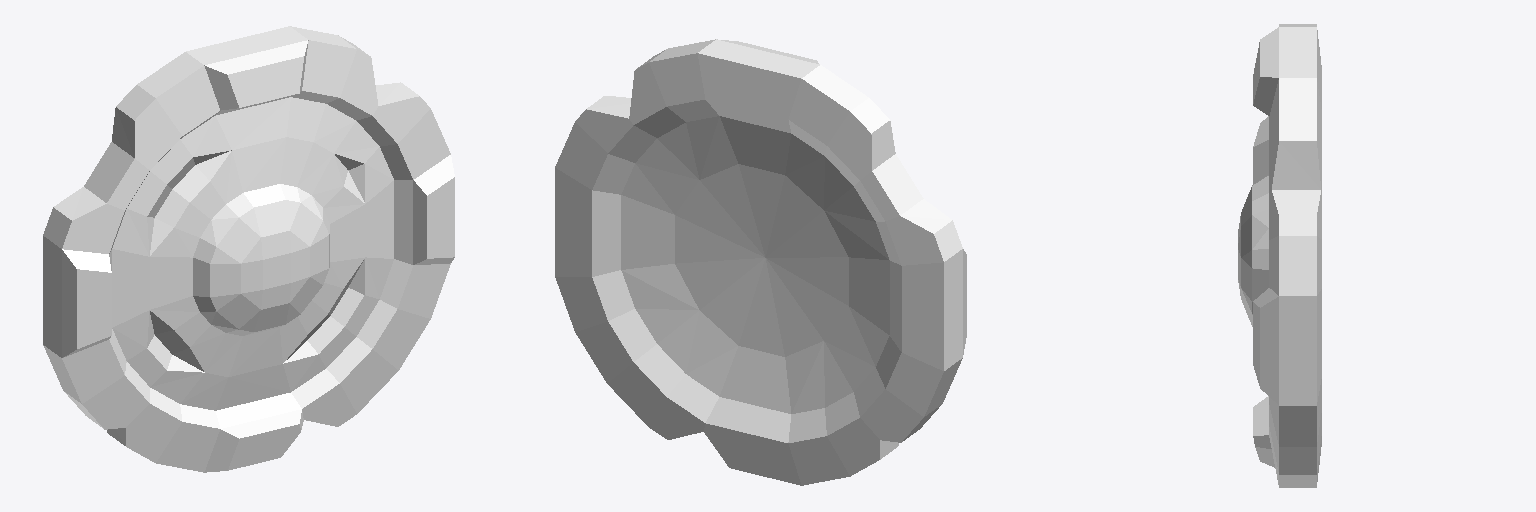
File: Skeleton_Shield_Small_A.obj
The picture shows the model from 3 angles: view 1: azimuth 30°, elevation 25°; view 2: azimuth 150°, elevation 25°; view 3: azimuth 270°, elevation 25°; orthographic projection.
Visible parts, largest first — view 1: Skeleton_Shield_Small_A_Cylinder.010; view 2: Skeleton_Shield_Small_A_Cylinder.010; view 3: Skeleton_Shield_Small_A_Cylinder.010.
Boxes of the visible parts, x1=… form: Skeleton_Shield_Small_A_Cylinder.010: x1=43, y1=26, x2=454, y2=472; Skeleton_Shield_Small_A_Cylinder.010: x1=555, y1=39, x2=966, y2=485; Skeleton_Shield_Small_A_Cylinder.010: x1=1238, y1=24, x2=1321, y2=487.
Bounding box in the file's own units: 0.8322 × 0.8322 × 0.1565.